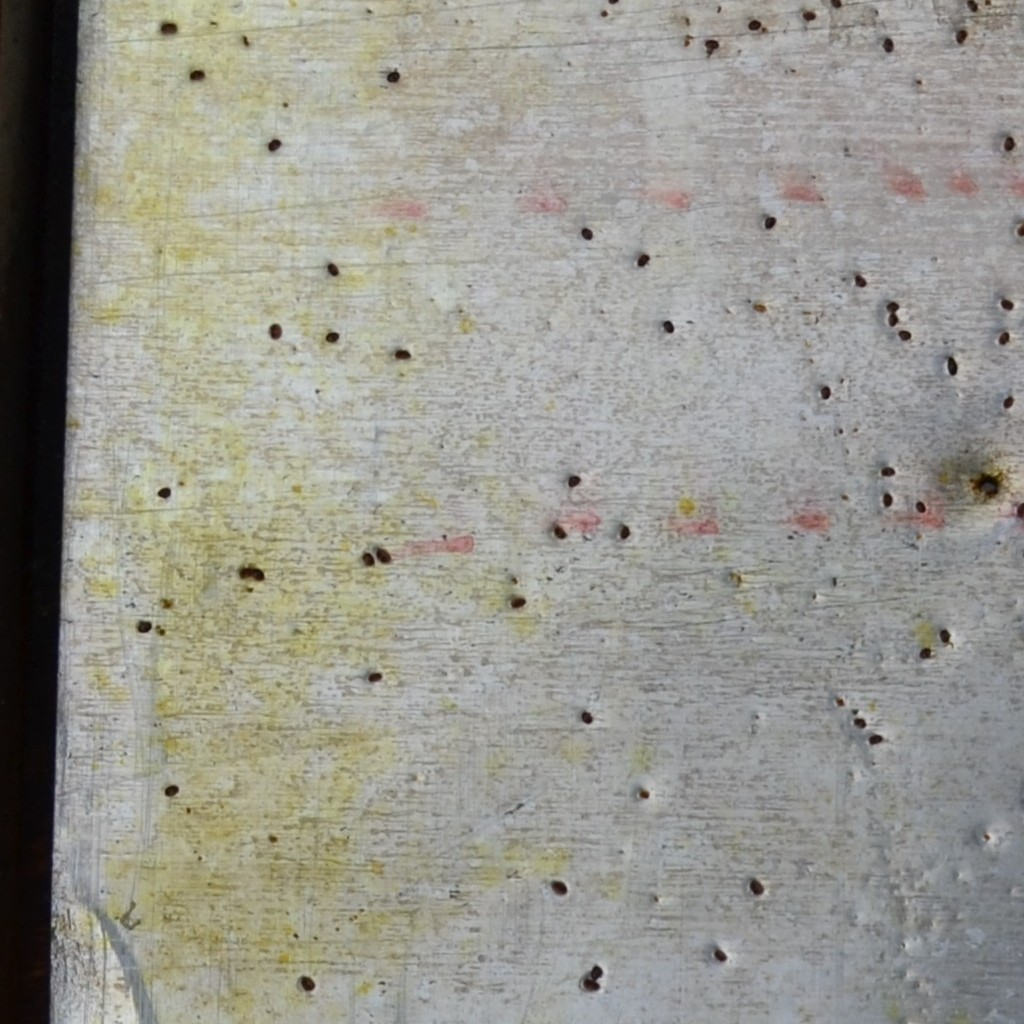varroa: (548, 872, 569, 897), (588, 959, 608, 982), (299, 969, 317, 993), (579, 976, 604, 993), (326, 257, 341, 285), (158, 18, 178, 38), (636, 247, 653, 270), (748, 875, 766, 895), (578, 706, 596, 726), (761, 213, 779, 232), (702, 36, 722, 53), (188, 62, 205, 82), (266, 134, 283, 154), (996, 326, 1013, 346), (510, 591, 527, 611), (375, 544, 392, 564), (946, 353, 959, 379), (393, 346, 415, 361), (881, 487, 895, 510), (268, 321, 284, 341), (1002, 133, 1018, 153), (866, 731, 886, 747), (954, 27, 969, 48), (881, 33, 896, 54), (566, 471, 582, 490), (361, 548, 376, 568), (164, 779, 179, 799), (578, 224, 594, 242), (617, 520, 630, 542), (914, 497, 929, 516), (887, 308, 901, 328), (999, 296, 1015, 313), (897, 326, 914, 342), (885, 295, 901, 312), (852, 270, 868, 287), (879, 462, 897, 477), (818, 383, 832, 402), (662, 317, 677, 334), (252, 564, 266, 582), (386, 68, 401, 84), (136, 618, 151, 634), (713, 945, 726, 963), (747, 17, 762, 32), (918, 644, 933, 659), (367, 667, 382, 682), (156, 484, 171, 499), (938, 627, 952, 643), (852, 714, 869, 727), (1003, 393, 1015, 411), (323, 330, 340, 342), (1016, 495, 1023, 523), (239, 565, 253, 578), (1015, 219, 1023, 240), (826, 0, 846, 7)
